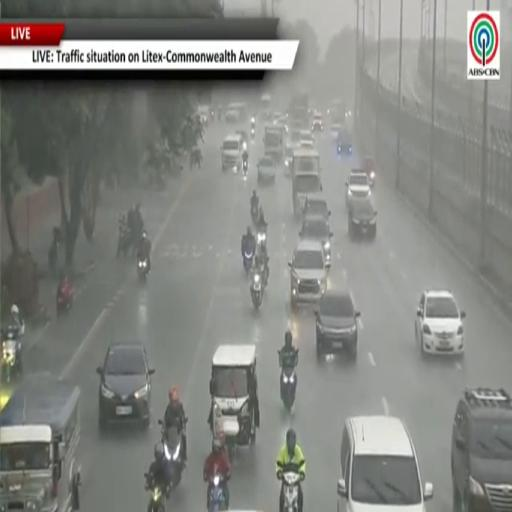car: (337, 415, 433, 511), (451, 389, 511, 511), (97, 343, 154, 429), (415, 290, 465, 356), (315, 291, 360, 358), (289, 239, 327, 308), (300, 214, 332, 267), (348, 198, 377, 239), (346, 170, 371, 207), (221, 134, 243, 170), (304, 192, 330, 218), (257, 156, 275, 184), (337, 126, 353, 155), (285, 142, 299, 174), (363, 156, 375, 186), (300, 130, 314, 148), (198, 105, 210, 125), (312, 112, 323, 132), (330, 121, 341, 139), (236, 130, 248, 145), (290, 130, 300, 146), (301, 140, 314, 149)
jeepney: (0, 374, 80, 511), (264, 125, 285, 163), (291, 148, 320, 175)
motorcycle: (159, 421, 184, 490), (2, 326, 22, 383), (282, 464, 300, 511), (209, 474, 228, 511), (281, 367, 296, 411), (48, 228, 62, 275), (56, 283, 74, 315), (147, 486, 166, 511), (251, 272, 263, 310), (117, 228, 131, 258), (243, 251, 254, 275), (137, 258, 148, 281), (256, 231, 266, 246), (251, 205, 258, 226), (243, 160, 248, 181), (243, 159, 248, 175), (251, 126, 255, 139), (211, 110, 215, 121)
